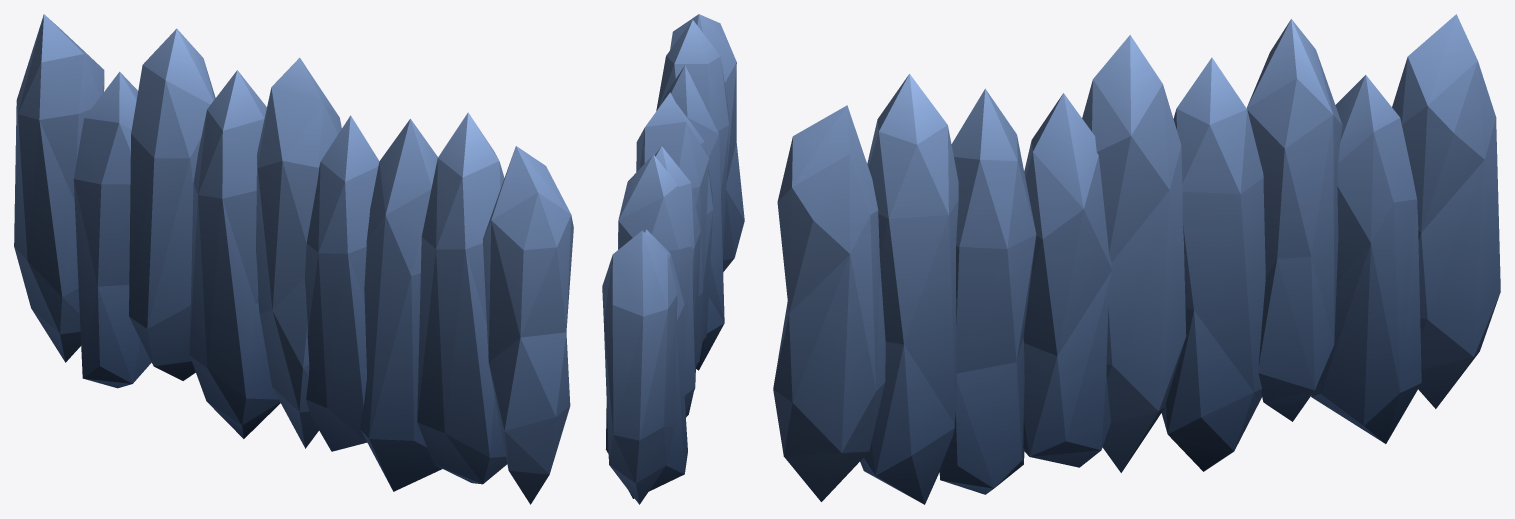
The model's file is SM_Example-IceSpikeWall_Body.fbx.
3 renders of one model, left to right at view 1: azimuth 30°, elevation 25°; view 2: azimuth 150°, elevation 25°; view 3: azimuth 270°, elevation 25°, orthographic. The views are drawn at different scales.
Visible parts, largest first — view 1: SM_Example-IceSpikeWall_Body; view 2: SM_Example-IceSpikeWall_Body; view 3: SM_Example-IceSpikeWall_Body.
Part boxes in pixels (x1,y1,x2,y2): SM_Example-IceSpikeWall_Body: [14, 14, 573, 504]; SM_Example-IceSpikeWall_Body: [602, 14, 744, 504]; SM_Example-IceSpikeWall_Body: [773, 14, 1500, 504].
Size of the model in its own units: 287 by 402 by 588.
